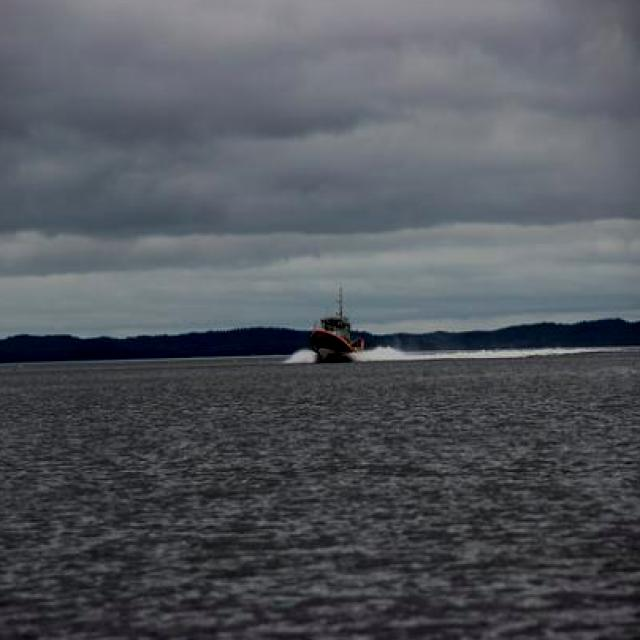ship: (305, 301, 367, 363)
